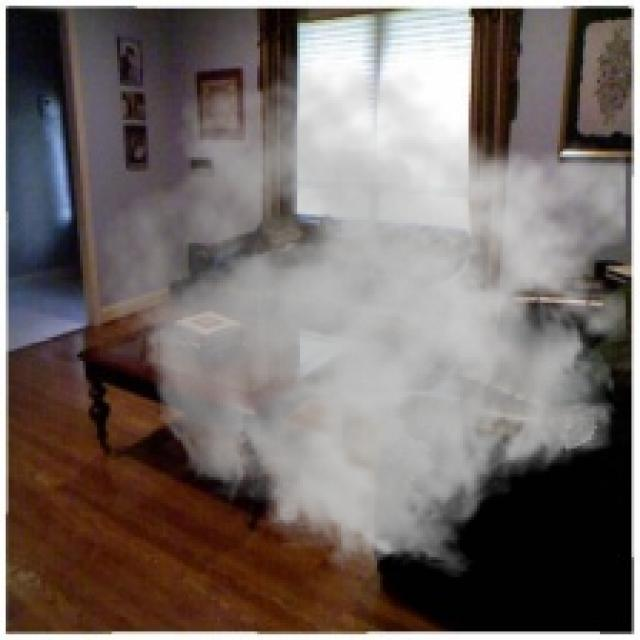smoke: (100, 51, 626, 580)
